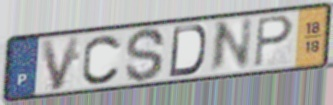C: (79, 33, 123, 86)
D: (167, 23, 208, 79)
N: (207, 16, 256, 77)
P: (252, 14, 295, 70)
S: (123, 26, 168, 84)
V: (38, 33, 83, 93)
